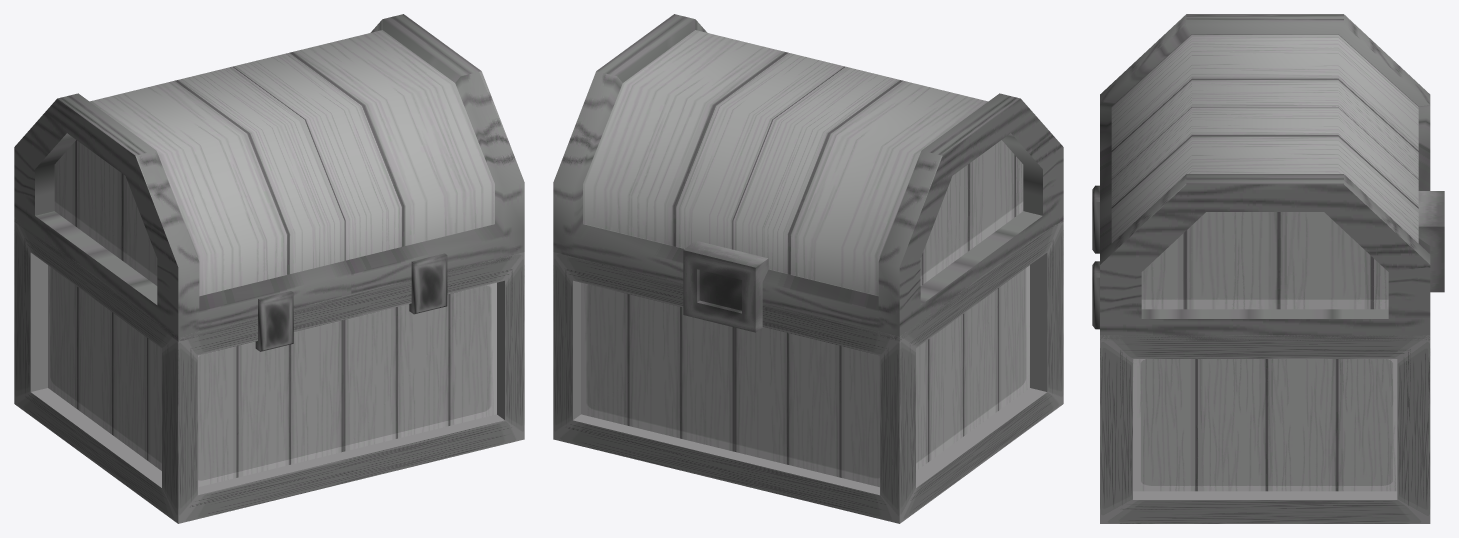
Rendered from Chest.fbx.
The picture shows the model from 3 angles, left to right: view 1: azimuth 30°, elevation 25°; view 2: azimuth 150°, elevation 25°; view 3: azimuth 270°, elevation 25°; orthographic projection.
Visible parts, largest first — view 1: Lid, Crate; view 2: Lid, Crate; view 3: Lid, Crate.
Part boxes in pixels (bbox=[...]): Lid: bbox=[14, 14, 524, 341]; Crate: bbox=[14, 217, 524, 523]; Lid: bbox=[553, 14, 1063, 341]; Crate: bbox=[553, 220, 1063, 523]; Lid: bbox=[1100, 14, 1444, 340]; Crate: bbox=[1092, 185, 1430, 523].
Size of the model in its own units: 1.6 by 1.48 by 1.4.
2 materials, 2 textured.
